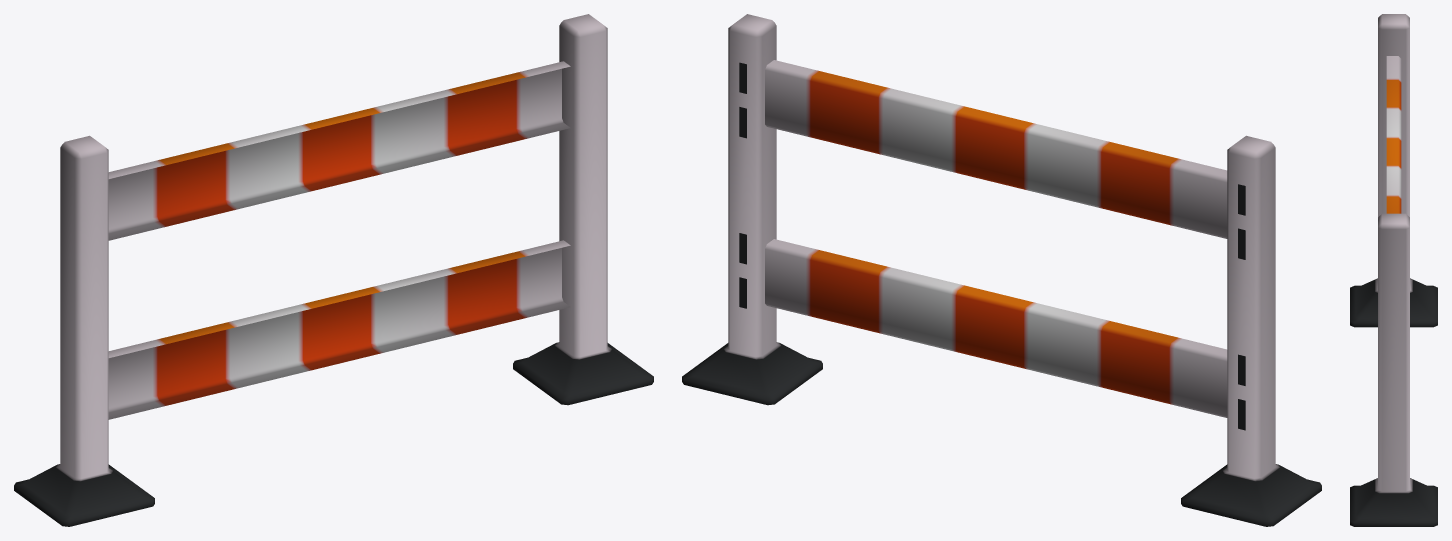
The model's file is RoadWorksBarrier02.fbx.
The picture shows the model from 3 angles, left to right: view 1: azimuth 30°, elevation 25°; view 2: azimuth 150°, elevation 25°; view 3: azimuth 270°, elevation 25°; orthographic projection. The views are drawn at different scales.
Parts seen in each view (by area): view 1: RoadWorksBarrier02; view 2: RoadWorksBarrier02; view 3: RoadWorksBarrier02.
Boxes of the visible parts, bbox=[...] form: RoadWorksBarrier02: bbox=[14, 14, 653, 526]; RoadWorksBarrier02: bbox=[682, 14, 1321, 526]; RoadWorksBarrier02: bbox=[1350, 14, 1437, 526].
Bounding box in the file's own units: 272 × 155 × 42.57.
